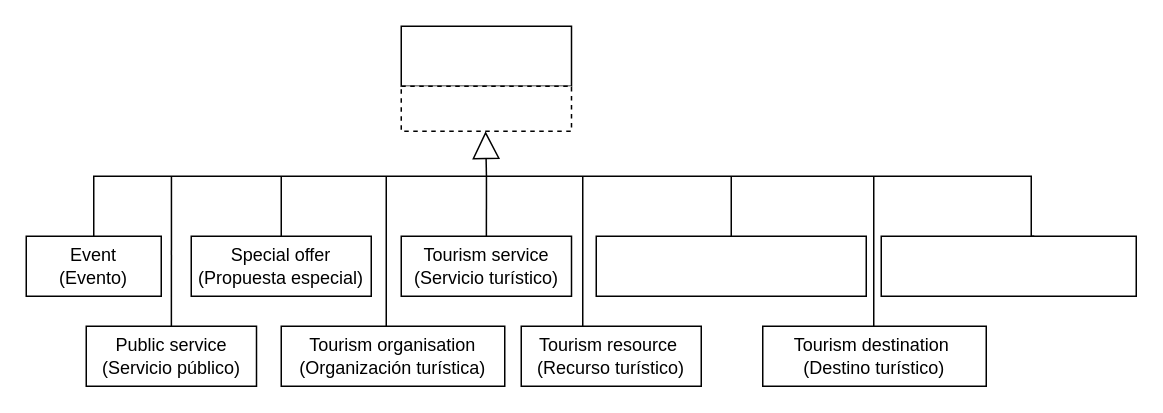
Some shapes in this 1163 by 413 pixel diagram are drawn without their labels. The centre of each missing label's shape, as x and y in pixels:
name (nombre): the point at 486,108
Tourism entity (Entidad turística): the point at 486,55
Tourism or related facility (Instalación turística o vinculada): the point at 730,265
Transport i nfrastructure (Infraestructura de transporte): the point at 1008,265
